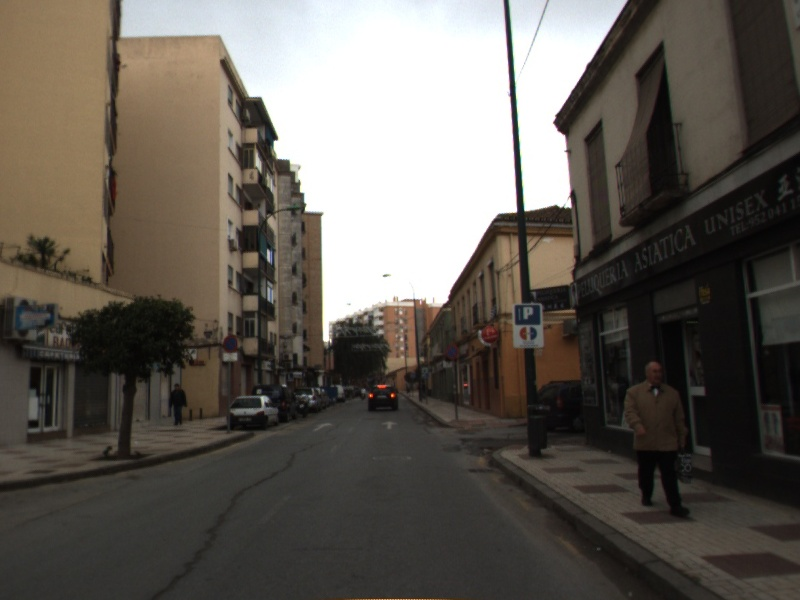STRAIGHT: (310, 421, 335, 433), (379, 419, 400, 431)
